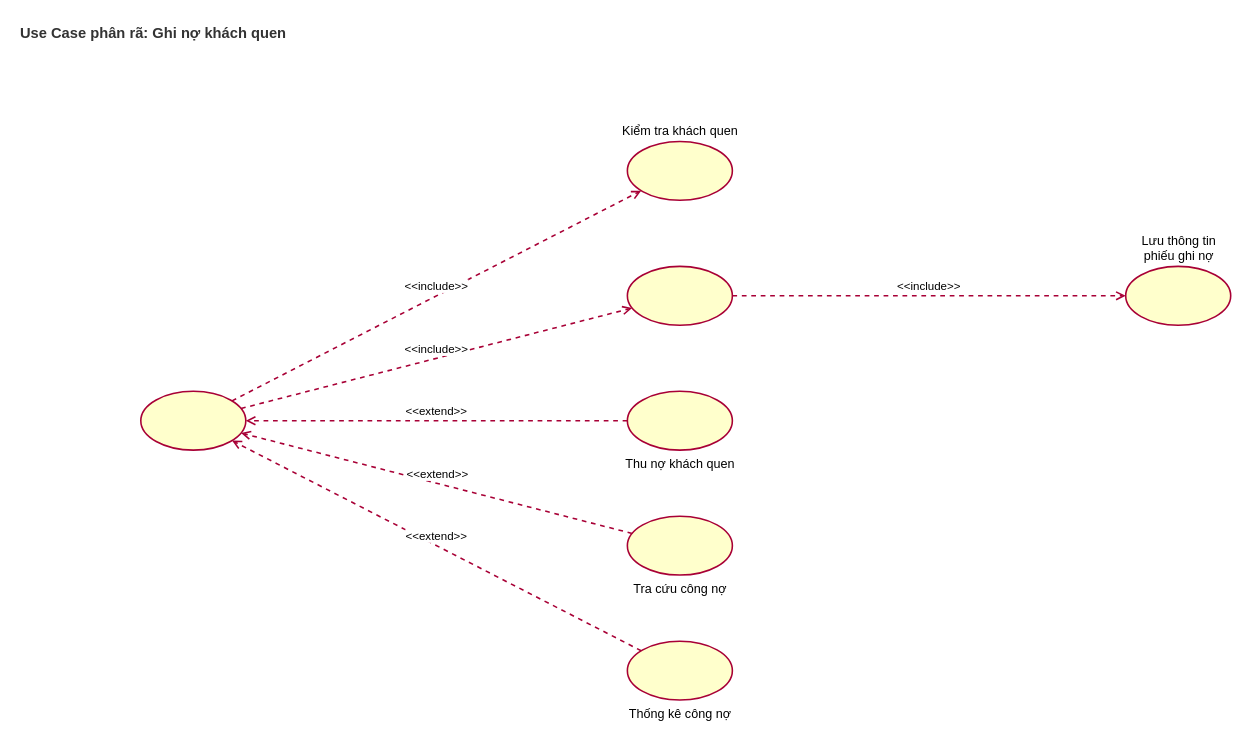
The diagram is 1250 pixels wide and 740 high, and some of its shapes have lost their labels. The shapes that lost their labels are listed below. From the top down, each one's centre as x and y in pixels, then its label:
At point 679,295: "Lập phiếu ghi nợ".
At point 193,420: "Ghi nợ khách quen".
